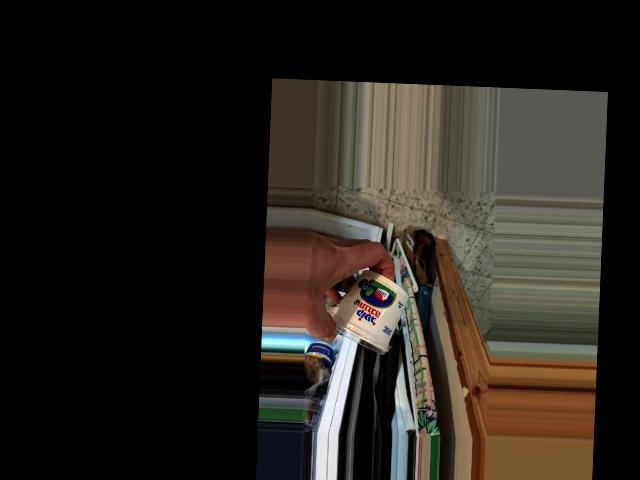cotage: (332, 272, 408, 358)
